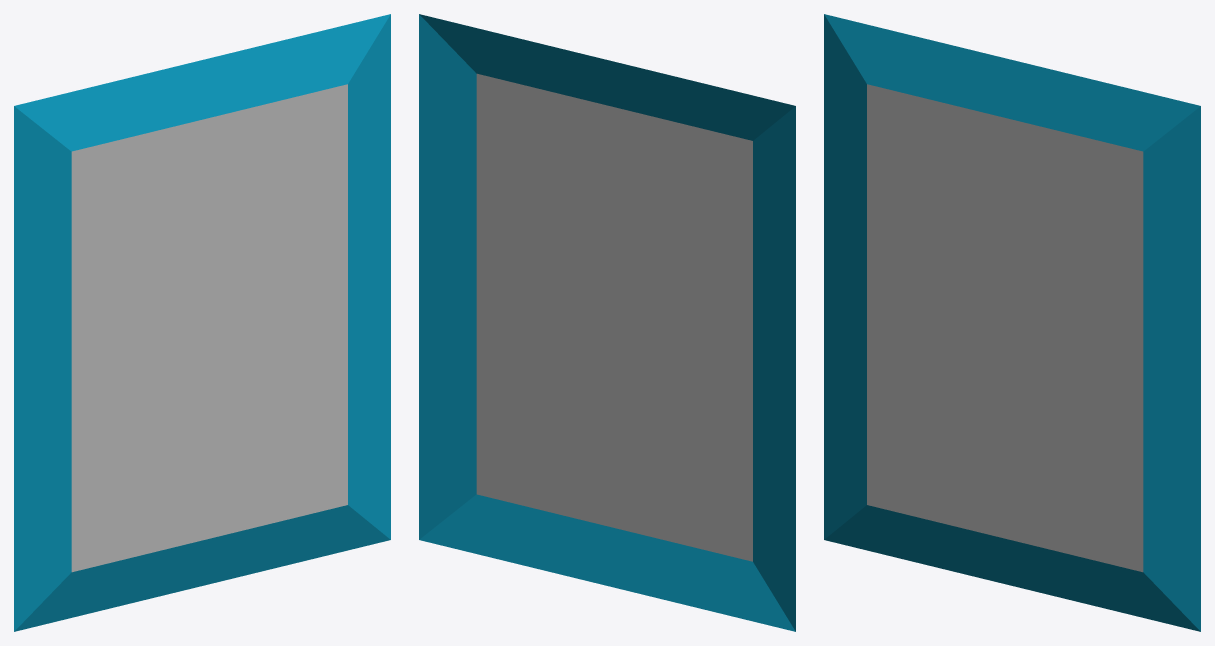
The model's file is LPPicture.fbx.
3 renders of one model, left to right at view 1: azimuth 30°, elevation 25°; view 2: azimuth 150°, elevation 25°; view 3: azimuth 330°, elevation 25°, orthographic.
Parts seen in each view (by area): view 1: Plane; view 2: Plane; view 3: Plane.
Part boxes in pixels (<box>): Plane: <box>14,14,390,631</box>; Plane: <box>419,14,795,631</box>; Plane: <box>824,14,1200,631</box>.
Size of the model in its own units: 150 by 5 by 200.
